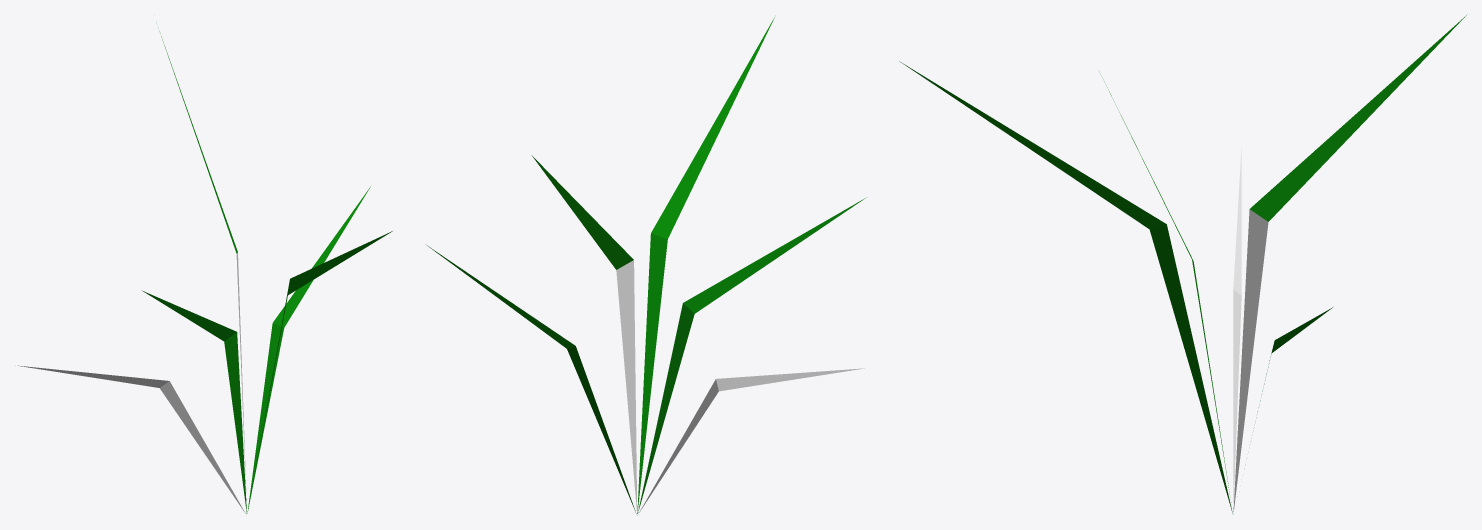
Rendered from primary_266.glb.
3 views of the same model, side by side, from view 1: azimuth 30°, elevation 25°; view 2: azimuth 150°, elevation 25°; view 3: azimuth 270°, elevation 25° (orthographic). The views are drawn at different scales.
Parts seen in each view (by area): view 1: Object; view 2: Object; view 3: Object.
Part boxes in pixels (left/top/right/bottom): Object: left=15, top=31, right=392, bottom=513; Object: left=427, top=15, right=866, bottom=515; Object: left=899, top=15, right=1466, bottom=514.
Bounding box in the file's own units: 1.65 × 1.69 × 1.73.
Materials: 2 (2 with a texture image).
